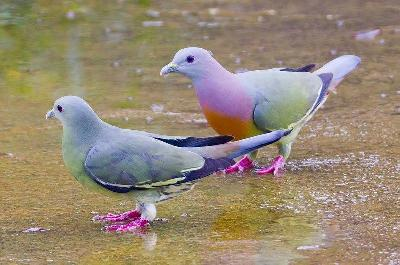голубь: (34, 86, 285, 232), (155, 33, 361, 187)
